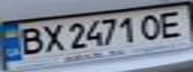1: (115, 14, 139, 44)
2: (63, 19, 87, 51)
4: (84, 17, 106, 47)
7: (100, 16, 121, 46)
B: (12, 25, 45, 56)
E: (154, 8, 190, 39)
O: (136, 11, 166, 42)
X: (39, 21, 66, 54)
